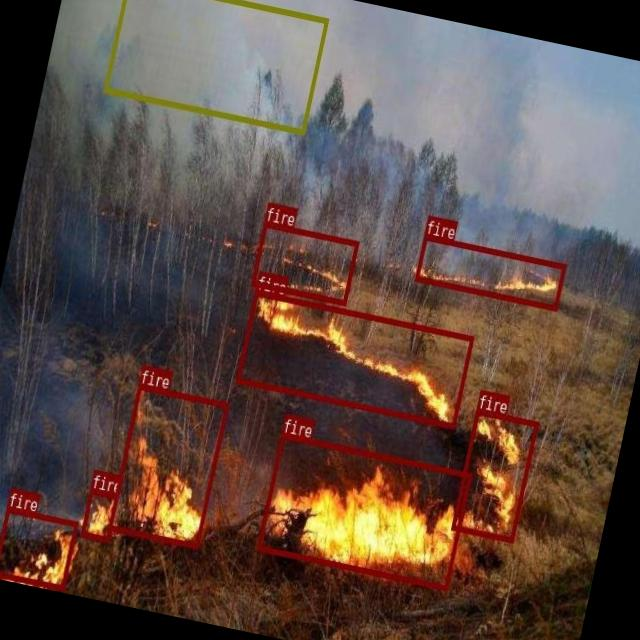fire: (256, 432, 471, 589), (236, 289, 474, 427), (108, 383, 229, 548), (450, 407, 538, 542), (414, 232, 566, 310), (250, 220, 358, 304), (0, 506, 77, 589), (80, 488, 118, 541)
smoke: (103, 0, 328, 133)
